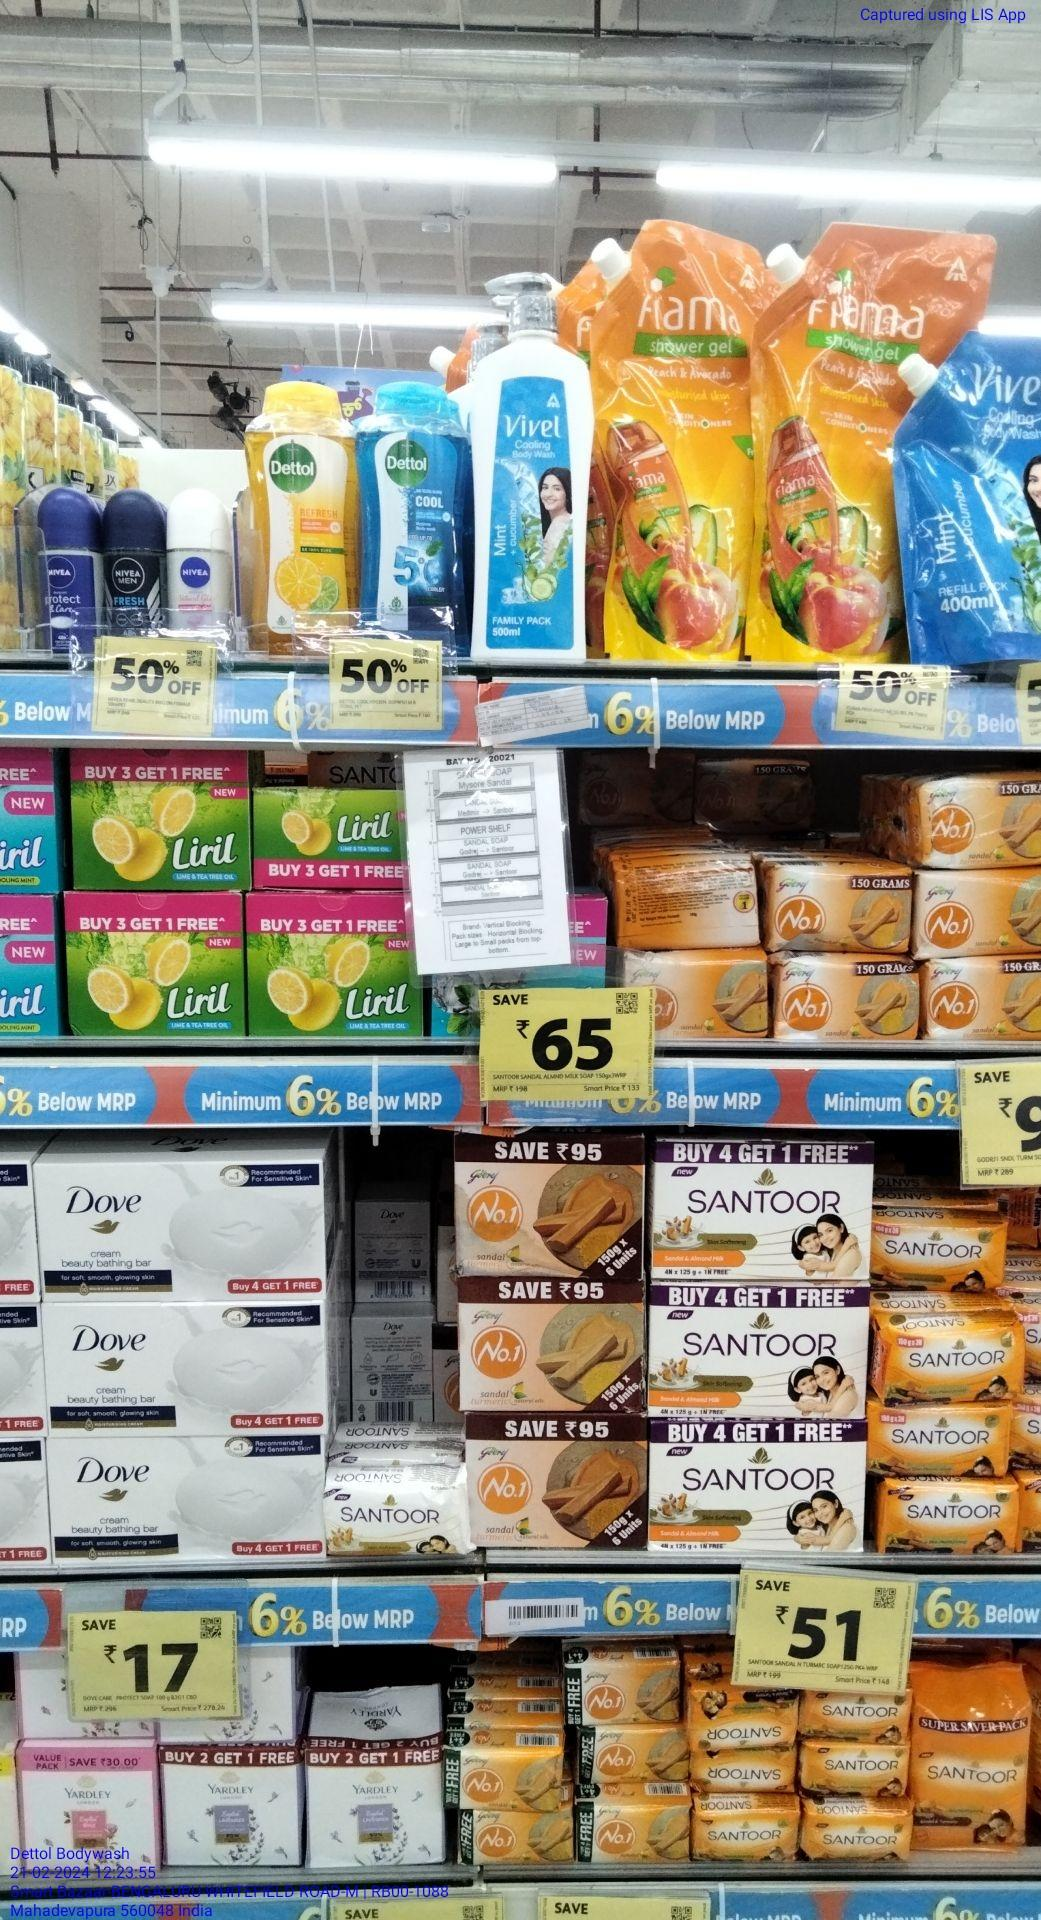Dettol_Bodywash_Cool: (354, 374, 469, 637)
Dettol_Bodywash_Refresh: (241, 373, 354, 647)
